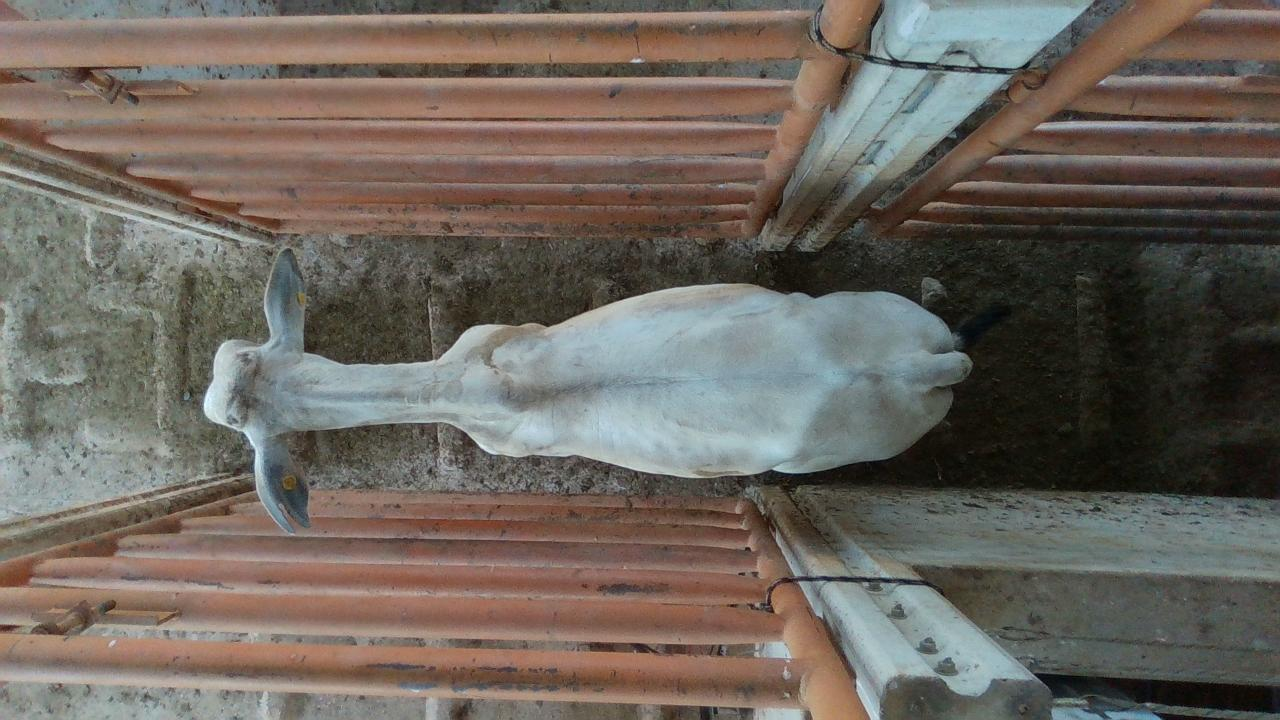cattle: (201, 245, 977, 534)
